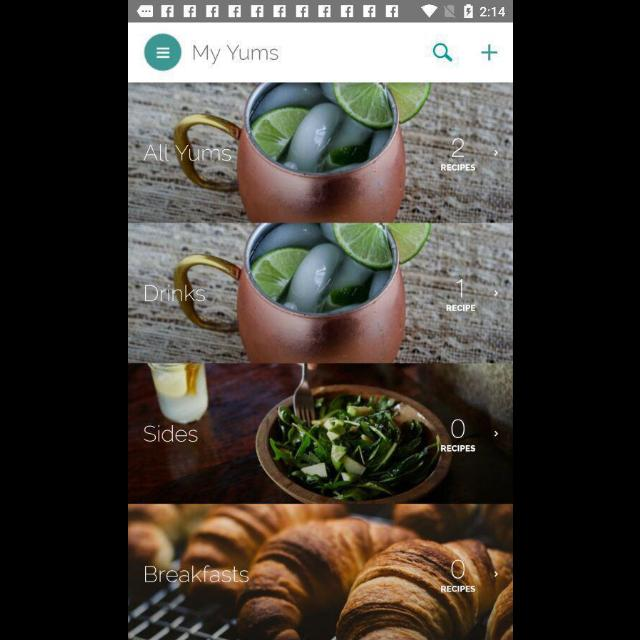icon: (143, 34, 181, 72), (433, 42, 453, 62), (479, 44, 496, 61)
image: (128, 363, 512, 503), (128, 223, 512, 363), (128, 84, 512, 222), (128, 504, 512, 640)
text: (145, 564, 249, 584), (192, 44, 278, 66), (143, 144, 231, 162), (144, 284, 206, 302), (144, 426, 198, 442), (439, 164, 475, 172), (439, 445, 475, 453), (450, 138, 464, 158), (450, 419, 464, 439), (450, 559, 464, 579), (440, 585, 474, 593), (444, 304, 476, 312), (453, 278, 462, 300)
toolbar: (128, 23, 512, 82)
uppertaskbar: (128, 1, 512, 23)
